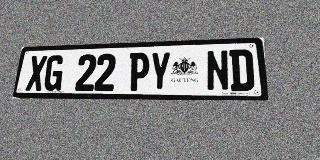2: (94, 53, 116, 91), (75, 54, 97, 91)
D: (229, 49, 255, 91)
G: (43, 55, 65, 91)
N: (206, 50, 230, 91)
P: (128, 52, 150, 91)
X: (25, 55, 48, 91)
Y: (149, 52, 171, 91)
